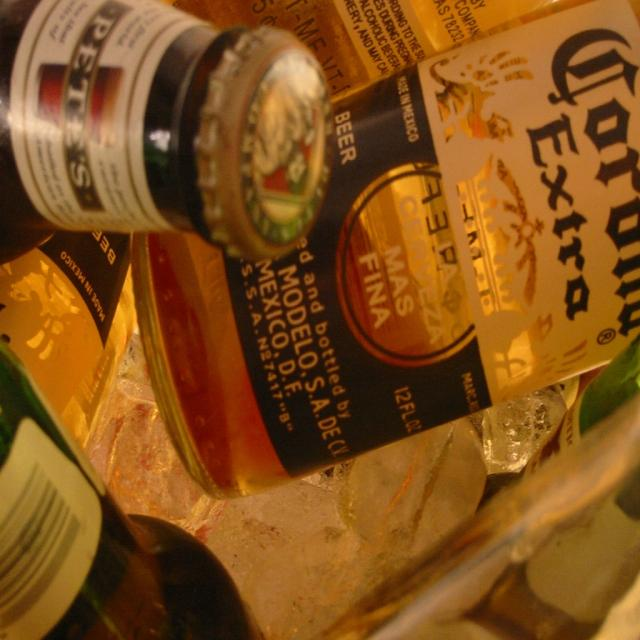corona: (223, 2, 640, 479)
